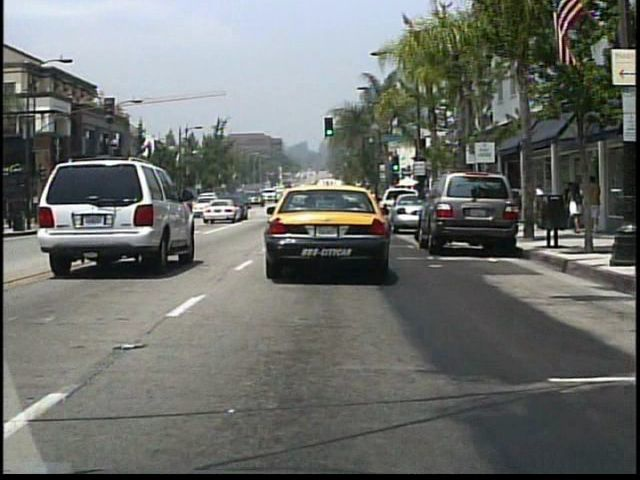person: (567, 181, 585, 237), (563, 179, 579, 232), (589, 172, 601, 233)
